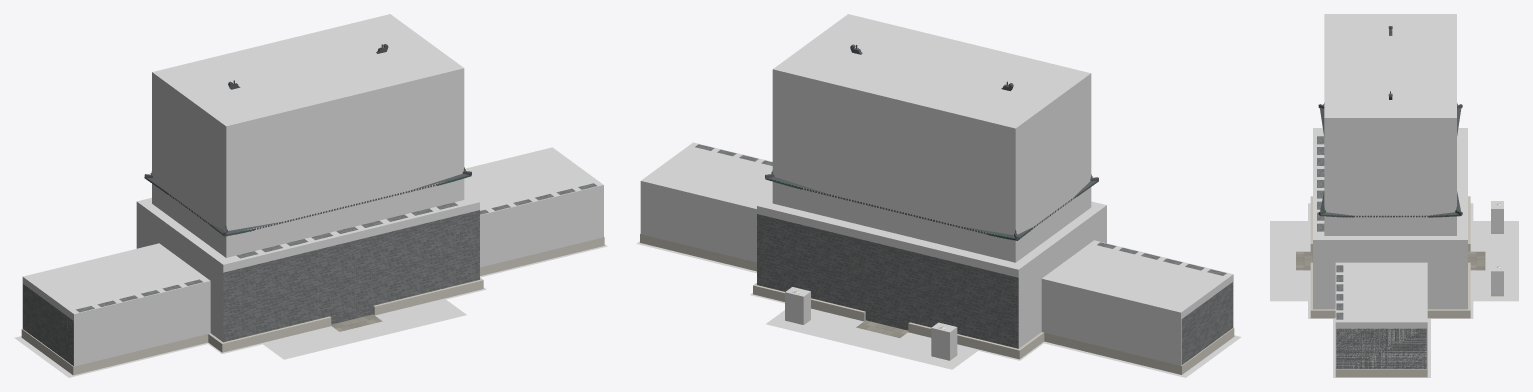
The model's file is yongdingmen.glb.
3 renders of one model, left to right at view 1: azimuth 30°, elevation 25°; view 2: azimuth 150°, elevation 25°; view 3: azimuth 270°, elevation 25°, orthographic. The views are drawn at different scales.
Parts seen in each view (by area): view 1: COL_tower, Massing, COL_wing-1, COL_wing+1, Gate, COL_pierW, CLEAR_approach, COL_pierE, FOOTPRINT_wingW, COL_lintel; view 2: COL_tower, Massing, COL_wing-1, COL_wing+1, Gate, COL_pierW, CLEAR_approach, COL_pierE, COL_lion0, COL_lion1, FOOTPRINT_wingW, COL_lintel; view 3: COL_tower, COL_wing+1, COL_pierE, CLEAR_approach, Gate, Massing, COL_pierW, FOOTPRINT_wingE, COL_lion1, COL_lion0, FOOTPRINT_gate, COL_lintel.
Part boxes in pixels (bbox=[...]): COL_tower: bbox=[152, 14, 464, 257]; Massing: bbox=[23, 173, 479, 365]; COL_wing-1: bbox=[22, 243, 210, 366]; COL_wing+1: bbox=[464, 147, 603, 267]; Gate: bbox=[21, 44, 604, 375]; COL_pierW: bbox=[136, 197, 329, 341]; CLEAR_approach: bbox=[261, 298, 466, 359]; COL_pierE: bbox=[371, 191, 479, 235]; FOOTPRINT_wingW: bbox=[14, 336, 209, 377]; COL_lintel: bbox=[328, 225, 373, 246]; COL_tower: bbox=[772, 14, 1091, 262]; Massing: bbox=[757, 177, 1232, 364]; COL_wing-1: bbox=[1041, 240, 1233, 365]; COL_wing+1: bbox=[640, 142, 772, 262]; Gate: bbox=[640, 44, 1234, 374]; COL_pierW: bbox=[910, 201, 1106, 348]; CLEAR_approach: bbox=[766, 308, 979, 369]; COL_pierE: bbox=[757, 194, 871, 240]; COL_lion0: bbox=[931, 322, 957, 360]; COL_lion1: bbox=[785, 287, 810, 324]; FOOTPRINT_wingW: bbox=[1042, 335, 1241, 377]; COL_lintel: bbox=[865, 228, 915, 250]; COL_tower: bbox=[1324, 14, 1456, 235]; COL_wing+1: bbox=[1335, 262, 1427, 368]; COL_pierE: bbox=[1313, 193, 1467, 309]; CLEAR_approach: bbox=[1270, 221, 1518, 301]; Gate: bbox=[1296, 26, 1485, 377]; Massing: bbox=[1319, 107, 1461, 368]; COL_pierW: bbox=[1313, 128, 1467, 174]; FOOTPRINT_wingE: bbox=[1333, 318, 1430, 377]; COL_lion1: bbox=[1491, 263, 1503, 293]; COL_lion0: bbox=[1491, 201, 1503, 231]; FOOTPRINT_gate: bbox=[1308, 203, 1473, 318]; COL_lintel: bbox=[1313, 174, 1467, 193].
Bounding box in the file's own units: 64.7 × 25.88 × 28.9.
Materials: 13 (5 with a texture image).
